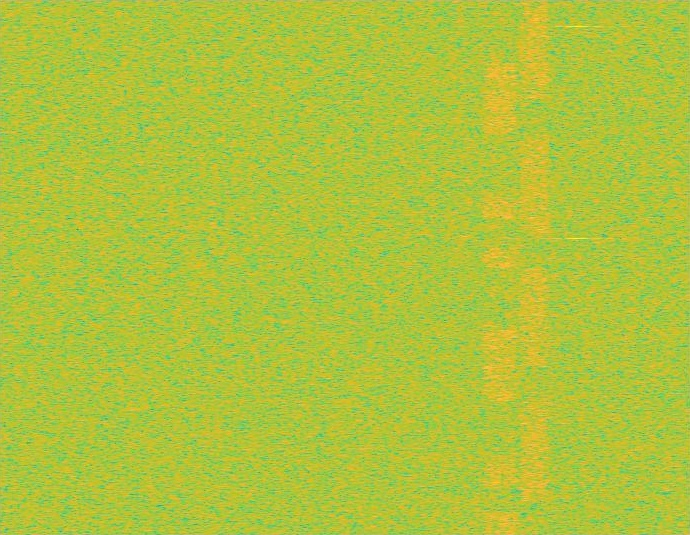5G: (518, 0, 552, 534)
LTE: (483, 0, 518, 534)
Radar: (571, 0, 584, 534)
